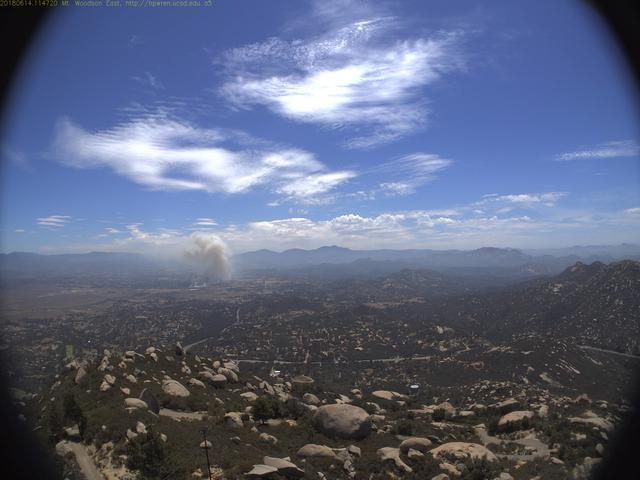smoke: (131, 229, 238, 288)
